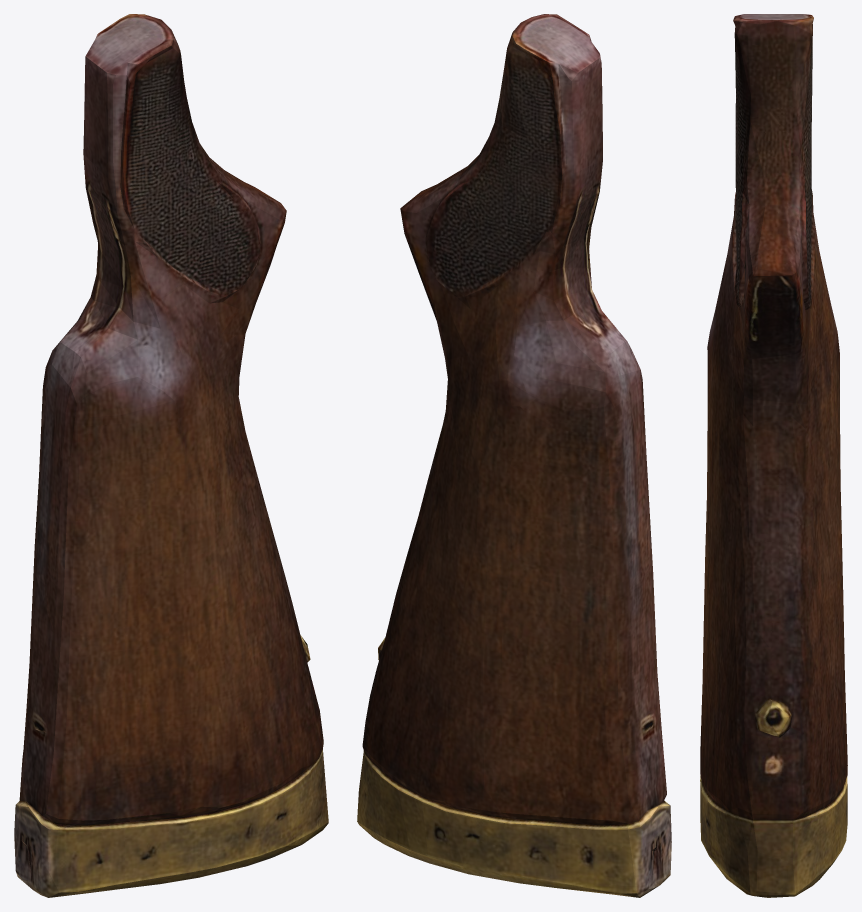
3 views of the same model, side by side, from view 1: azimuth 30°, elevation 25°; view 2: azimuth 150°, elevation 25°; view 3: azimuth 270°, elevation 25° (orthographic). The views are drawn at different scales.
Visible parts, largest first — view 1: geometry_0; view 2: geometry_0; view 3: geometry_0.
Part boxes in pixels (bbox=[...]): geometry_0: bbox=[14, 14, 328, 897]; geometry_0: bbox=[357, 14, 671, 897]; geometry_0: bbox=[700, 14, 847, 897].
Bounding box in the file's own units: 0.363 × 1 × 0.1653.
Materials: 1 (1 with a texture image).
